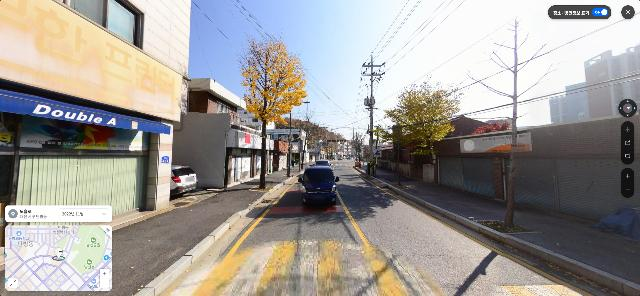ginkgo: (237, 32, 307, 190), (372, 79, 464, 187)
other: (460, 17, 560, 227), (296, 107, 321, 168), (349, 130, 369, 166)
